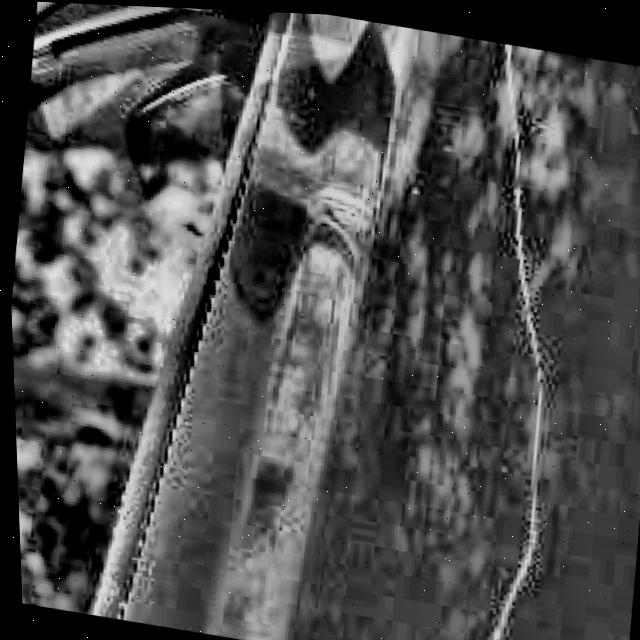door_scratch: (468, 246, 583, 640), (460, 51, 563, 247)
